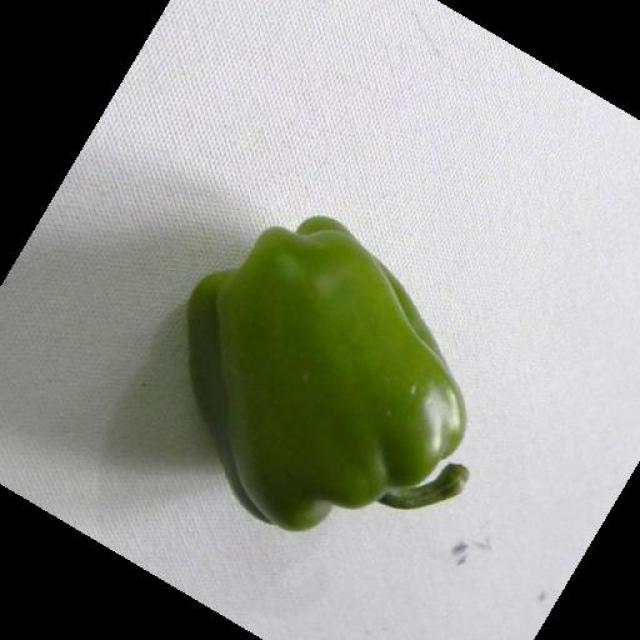Fresh_Capsicum: (158, 173, 490, 562)
